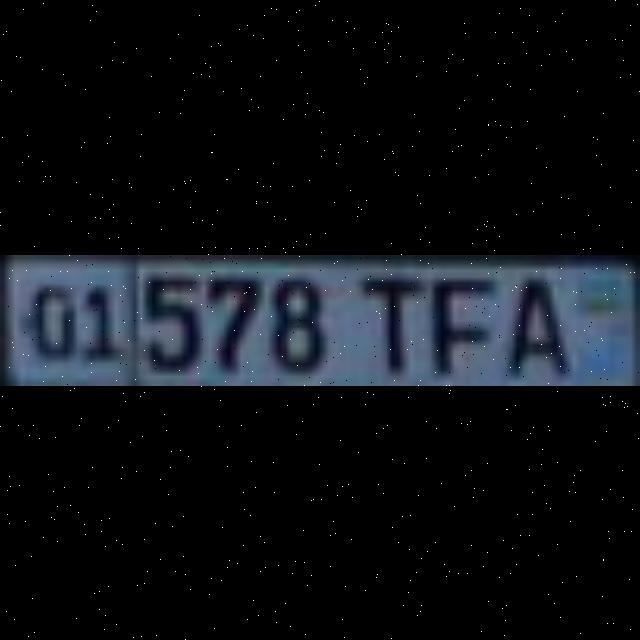0: (25, 280, 69, 354)
1: (75, 280, 113, 354)
5: (132, 267, 188, 367)
7: (195, 267, 258, 367)
8: (257, 267, 313, 367)
A: (496, 266, 564, 374)
F: (420, 266, 490, 374)
T: (352, 267, 421, 367)
